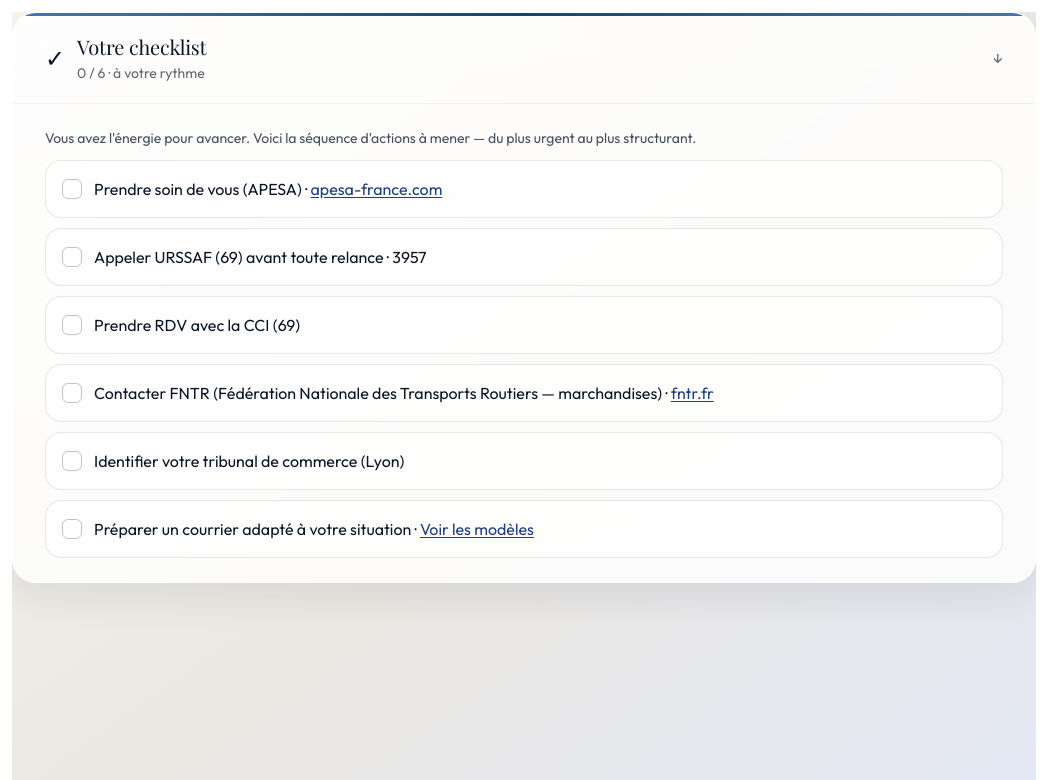
Test case: BlocChecklist › cocher une ligne met à jour le compteur
This screenshot has width=1048, height=780.
Click the checkbox labelled "Prendre soin de vous (APESA) · apesa-france.com" at (198, 189), box [45,160,1003,218]
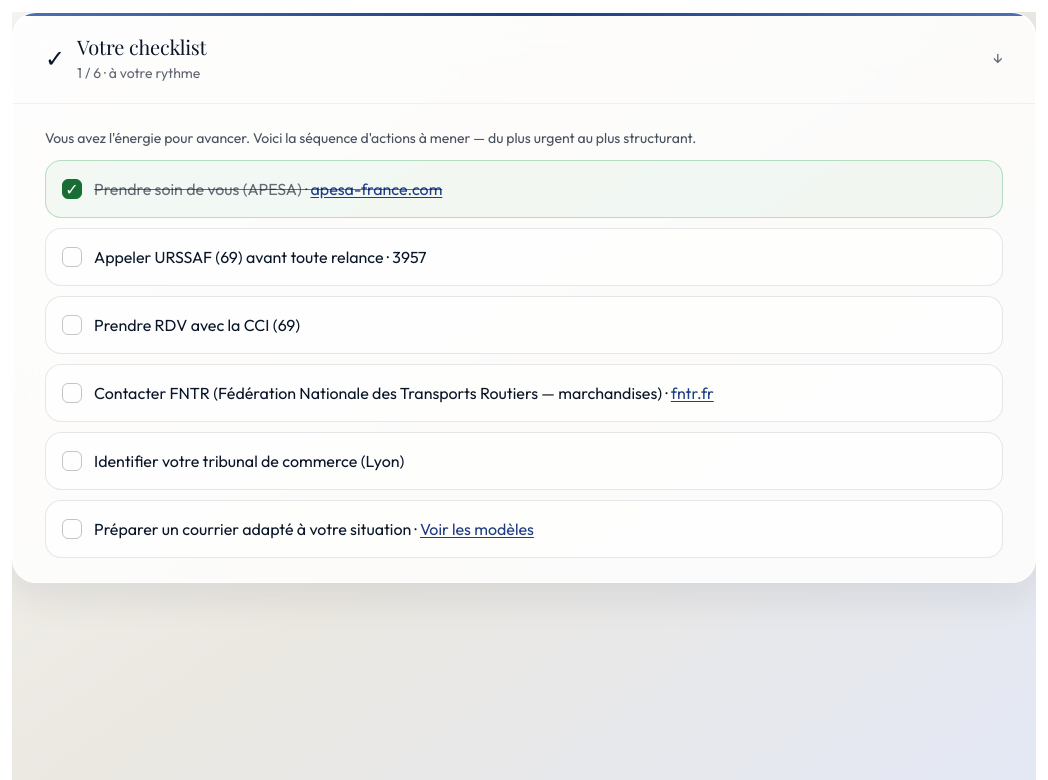
Expected: the checkbox labelled "✓ Prendre soin de vous (APESA) · apesa-france.com" is checked, [45,160,1003,218]
Expected: the text "1 / 6 · à votre rythme" is shown, [77,63,206,83]
